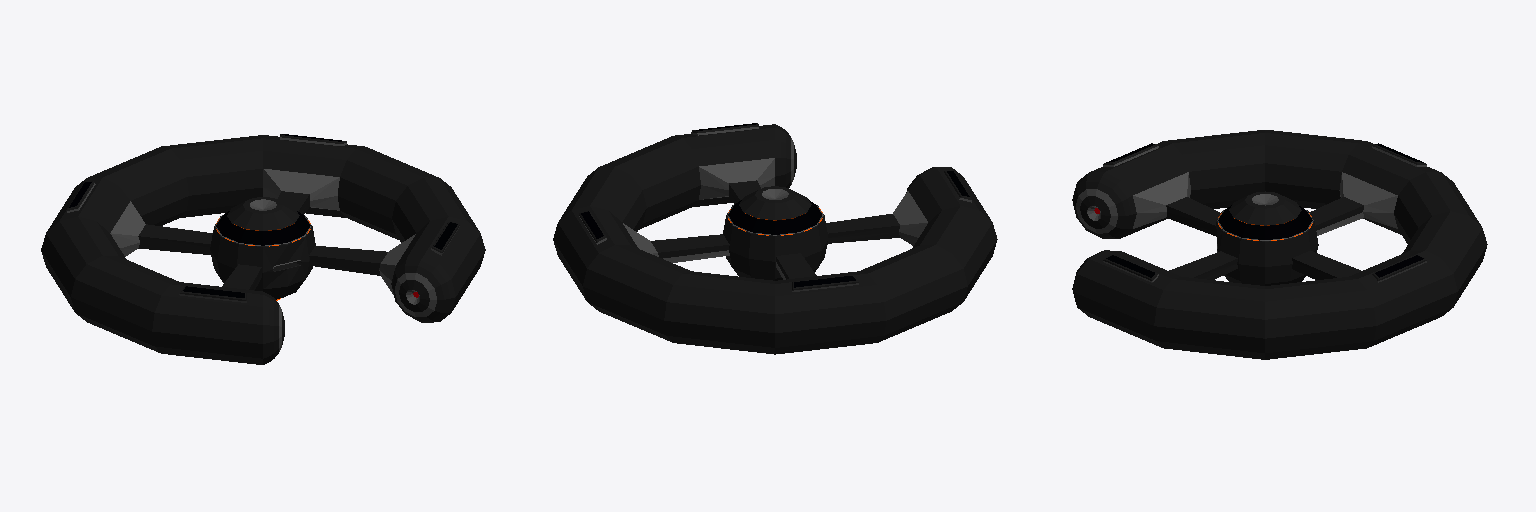
The model's file is Low_Poly_Space_Station_001.obj.
3 renders of one model, left to right at view 1: azimuth 30°, elevation 25°; view 2: azimuth 150°, elevation 25°; view 3: azimuth 270°, elevation 25°, orthographic.
Parts seen in each view (by area): view 1: Low_Poly_Space_Station_001_Torus.001; view 2: Low_Poly_Space_Station_001_Torus.001; view 3: Low_Poly_Space_Station_001_Torus.001.
Boxes of the visible parts, <box> form: Low_Poly_Space_Station_001_Torus.001: <box>41,134,485,364</box>; Low_Poly_Space_Station_001_Torus.001: <box>553,123,997,354</box>; Low_Poly_Space_Station_001_Torus.001: <box>1072,130,1487,359</box>.
Bounding box in the file's own units: 24 × 6.7 × 22.42.